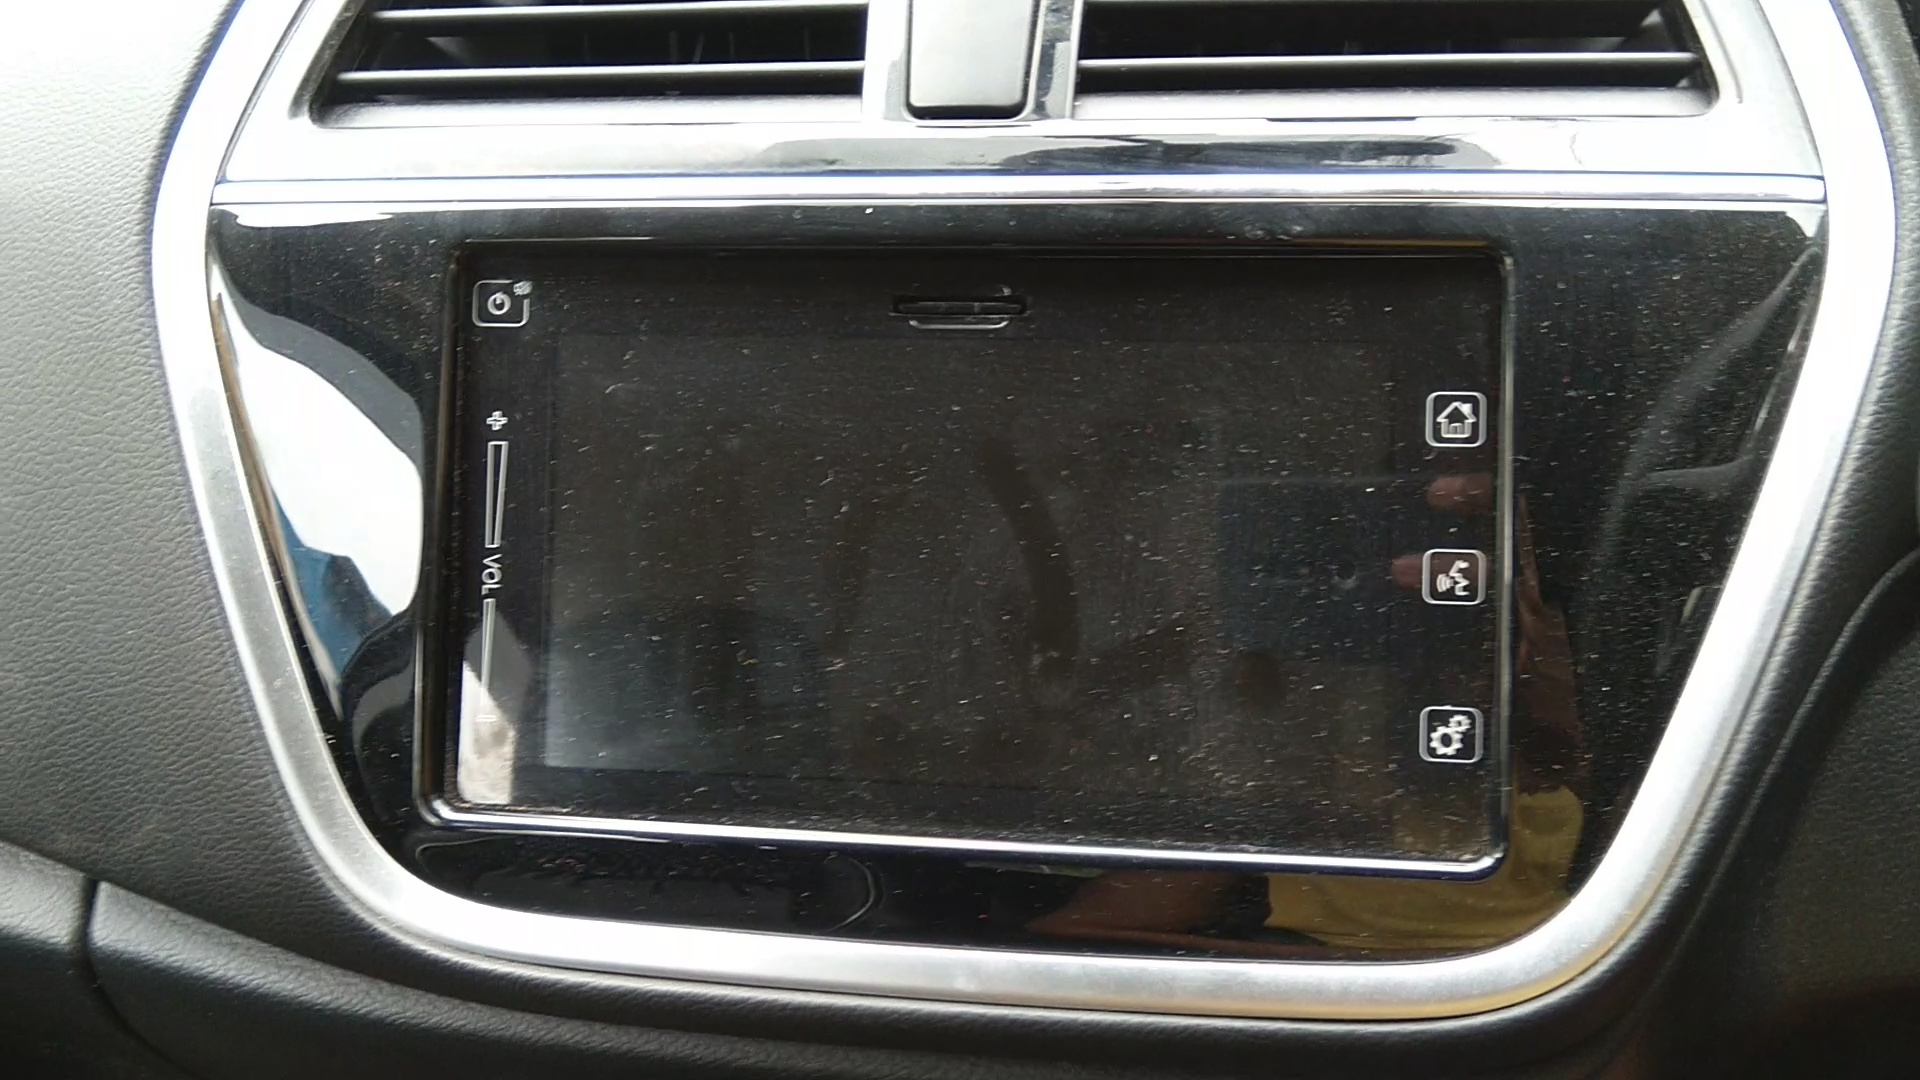touch_infotainment: (378, 210, 1549, 920)
